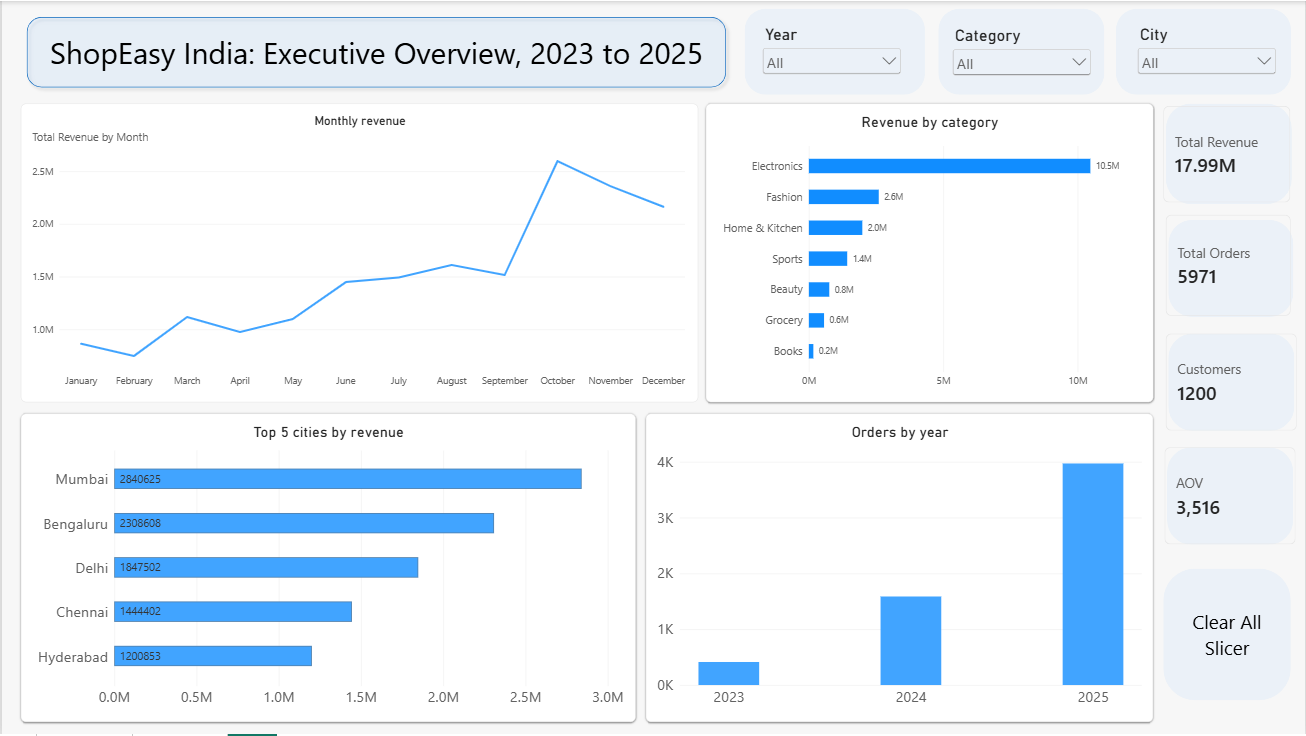

This screenshot's page, from the dashboard's own definition file:
{"tool":"powerbi","page":{"name":"Page 1","canvas":[1920,1080],"ordinal":0},"visuals":[{"type":"shape","box":[1093.6,10.4,266,127.2],"z":0,"group":"g1"},{"type":"group","id":"g1","title":"Group 1","box":[1093.6,10.4,805.6,127.2],"z":0,"group":"g7"},{"type":"slicer","fields":{"Values":["public orders.order_date.Variation.Date Hierarchy.Year"]},"box":[1115.4,34.1,213,105.4],"z":0,"group":"g3"},{"type":"group","id":"g2","title":"Group 3","box":[1709.2,151.8,189.5,148.2],"z":0,"group":"g8"},{"type":"shape","box":[1712.9,151.8,185.7,148.2],"z":0,"group":"g2"},{"type":"shape","box":[1717,322.2,184.3,143.2],"z":0,"group":"g4"},{"type":"shape","box":[1717.1,490.4,185.9,143.6],"z":0,"group":"g5"},{"type":"barChart","title":"Top 5 cities by revenue","fields":{"Category":["public customers.city"],"Y":["public orders.Total Revenue"]},"box":[27.6,607.4,905.5,454.6],"z":0},{"type":"shape","box":[1715,657.4,185.9,143.6],"z":0,"group":"g6"},{"type":"shape","box":[1378.8,10.4,244.8,127.2],"z":1000,"group":"g1"},{"type":"group","id":"g3","title":"Group 2","box":[1115.4,34.1,764.6,107.8],"z":1000,"group":"g7"},{"type":"slicer","fields":{"Values":["public orders.product_category"]},"box":[1394.4,36.5,213,105.4],"z":1000,"group":"g3"},{"type":"cardVisual","fields":{"Data":["public orders.Total Revenue"]},"box":[1709.2,155.8,187.8,142.6],"z":1000,"group":"g2"},{"type":"group","id":"g4","title":"Group 4","box":[1713.4,315.1,187.8,150.3],"z":1000,"group":"g8"},{"type":"cardVisual","fields":{"Data":["public orders.Total Orders"]},"box":[1713.4,315.1,184.6,149.9],"z":1000,"group":"g4"},{"type":"cardVisual","fields":{"Data":["public orders.Customers"]},"box":[1713.4,490.4,193.3,143.6],"z":1000,"group":"g5"},{"type":"columnChart","title":"Orders by year","fields":{"Category":["public orders.order_date.Variation.Date Hierarchy.Year"],"Y":["public orders.Total Orders"]},"box":[947.9,607.4,747.2,454.6],"z":1000},{"type":"cardVisual","fields":{"Data":["public orders.AOV"]},"box":[1711.3,657.4,193.3,143.6],"z":1000,"group":"g6"},{"type":"shape","box":[1640.9,10.4,258.2,127.2],"z":2000,"group":"g1"},{"type":"slicer","fields":{"Values":["public customers.city"]},"box":[1667,34.4,213,105.4],"z":2000,"group":"g3"},{"type":"lineChart","title":"Monthly revenue","fields":{"Category":["public orders.order_date.Variation.Date Hierarchy.Month"],"Y":["public orders.Total Revenue"]},"box":[27.6,150.9,997.6,439.9],"z":2000},{"type":"group","id":"g5","title":"Group 5","box":[1713.4,490.4,192,144],"z":2000,"group":"g8"},{"type":"shape","box":[27.6,14.7,1047.2,121.5],"z":3000},{"type":"group","id":"g6","title":"Group 5","box":[1711.3,657.4,192,144],"z":3000,"group":"g8"},{"type":"barChart","title":"Revenue by category","fields":{"Category":["public orders.product_category"],"Y":["public orders.Total Revenue"]},"box":[1036.2,150.9,658.9,439.9],"z":4000},{"type":"shape","box":[1709.2,834.8,187.8,194.1],"z":5000},{"type":"group","id":"g7","title":"Group 6","box":[1093.6,10.4,805.6,131.5],"z":6000},{"type":"group","id":"g8","title":"Group 7","box":[1709.2,151.8,196.2,649.6],"z":7000}]}

Visuals, with their boxes in screenshot pixels (x1, y1, x2, y2), scaled from the page's 1920x1080 canvas onto the 1306x736 screenshot:
shape: <box>744,7,925,94</box>
"Group 1" group: <box>744,7,1292,94</box>
slicer - public orders.order_date.Variation.Date Hierarchy.Year: <box>759,23,904,95</box>
"Group 3" group: <box>1163,103,1292,204</box>
shape: <box>1165,103,1291,204</box>
shape: <box>1168,220,1293,317</box>
shape: <box>1168,334,1294,432</box>
"Top 5 cities by revenue" barChart: <box>19,414,635,724</box>
shape: <box>1167,448,1293,546</box>
shape: <box>938,7,1104,94</box>
"Group 2" group: <box>759,23,1279,97</box>
slicer - public orders.product_category: <box>948,25,1093,97</box>
cardVisual - public orders.Total Revenue: <box>1163,106,1290,203</box>
"Group 4" group: <box>1165,215,1293,317</box>
cardVisual - public orders.Total Orders: <box>1165,215,1291,317</box>
cardVisual - public orders.Customers: <box>1165,334,1297,432</box>
"Orders by year" columnChart: <box>645,414,1153,724</box>
cardVisual - public orders.AOV: <box>1164,448,1296,546</box>
shape: <box>1116,7,1292,94</box>
slicer - public customers.city: <box>1134,23,1279,95</box>
"Monthly revenue" lineChart: <box>19,103,697,403</box>
"Group 5" group: <box>1165,334,1296,432</box>
shape: <box>19,10,731,93</box>
"Group 5" group: <box>1164,448,1295,546</box>
"Revenue by category" barChart: <box>705,103,1153,403</box>
shape: <box>1163,569,1290,701</box>
"Group 6" group: <box>744,7,1292,97</box>
"Group 7" group: <box>1163,103,1296,546</box>
